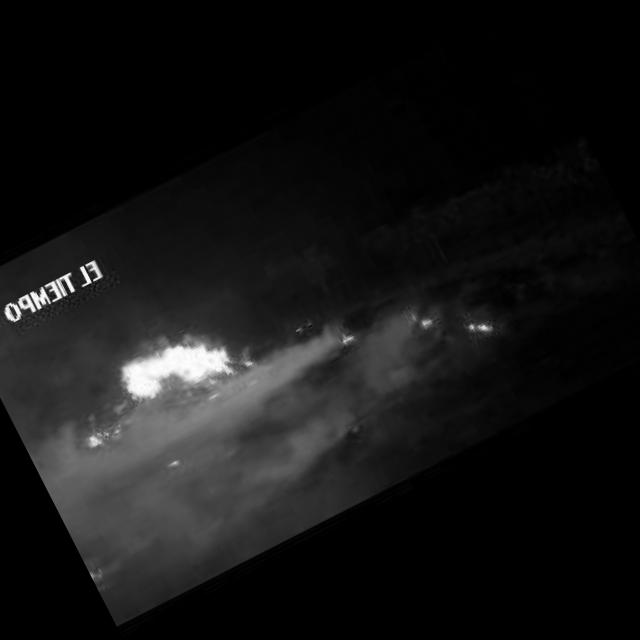fire: (107, 303, 270, 437), (466, 315, 494, 340), (82, 430, 101, 448), (336, 326, 354, 344), (418, 314, 434, 330), (163, 453, 180, 468), (88, 565, 101, 581)
